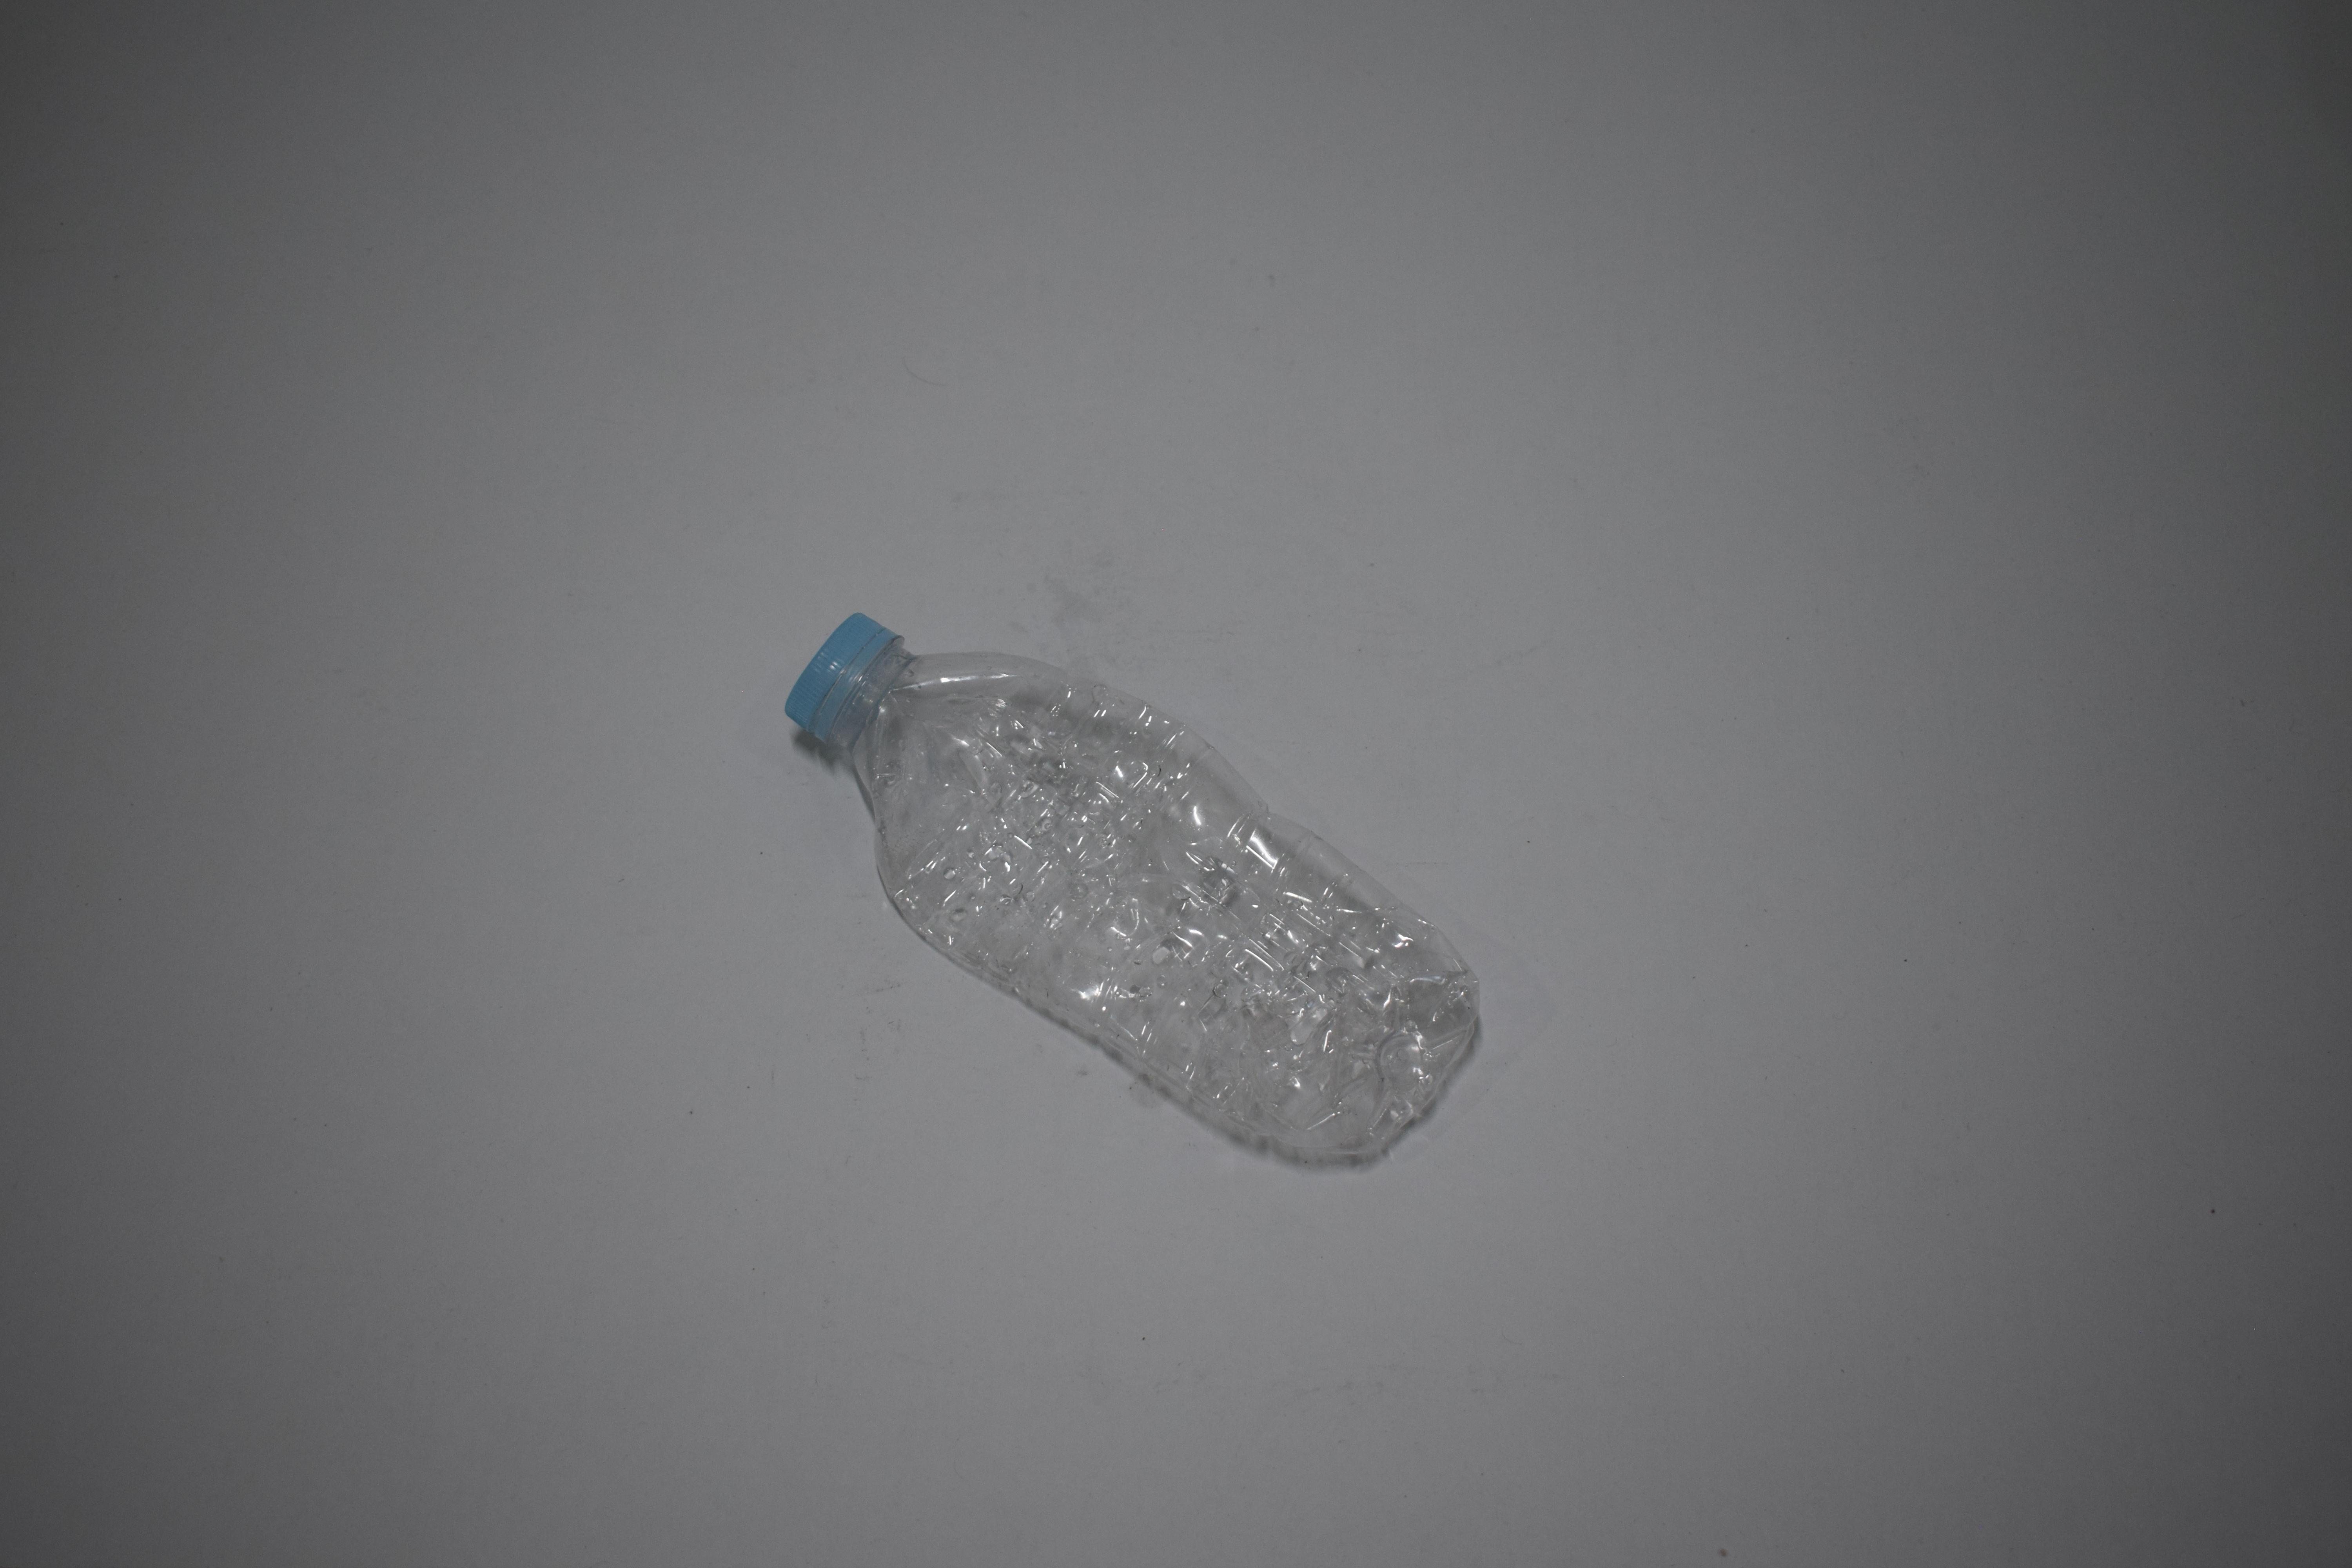bottle: (781, 0, 1486, 395)
